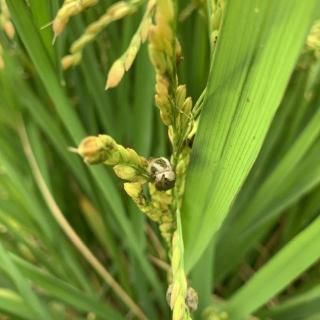Gosong-Palsu: (144, 156, 178, 193), (162, 282, 199, 314)
